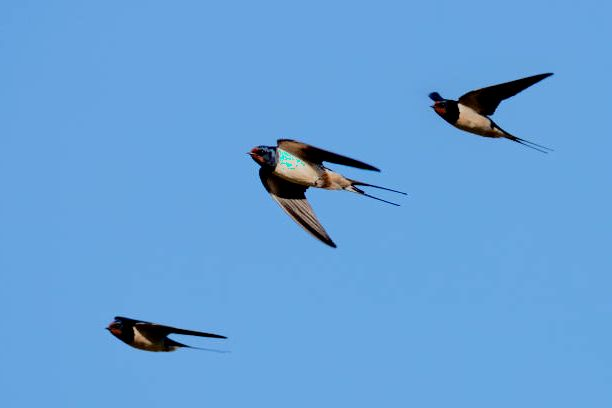Bird: (242, 137, 409, 253), (424, 71, 561, 154), (102, 309, 236, 359)
